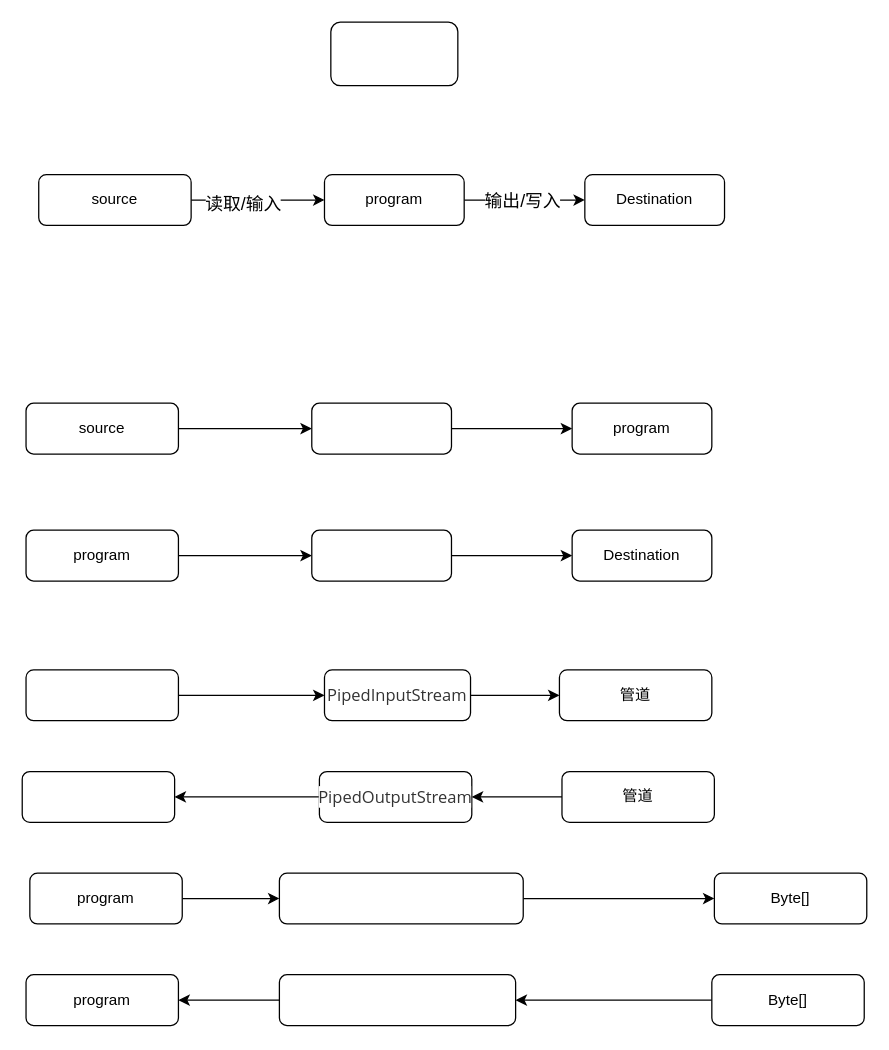
The diagram is 889 pixels wide and 1050 high, and some of its shapes have lost their labels. Each missing label, with the centre of its shape:
ByteArrayInputStream: point 397,999
ByteArrayOutputStream: point 400,898
InputStream/ Reader: point 381,428
OutputStream/ Writer: point 381,555
thread1: point 101,695
thread2: point 98,796
